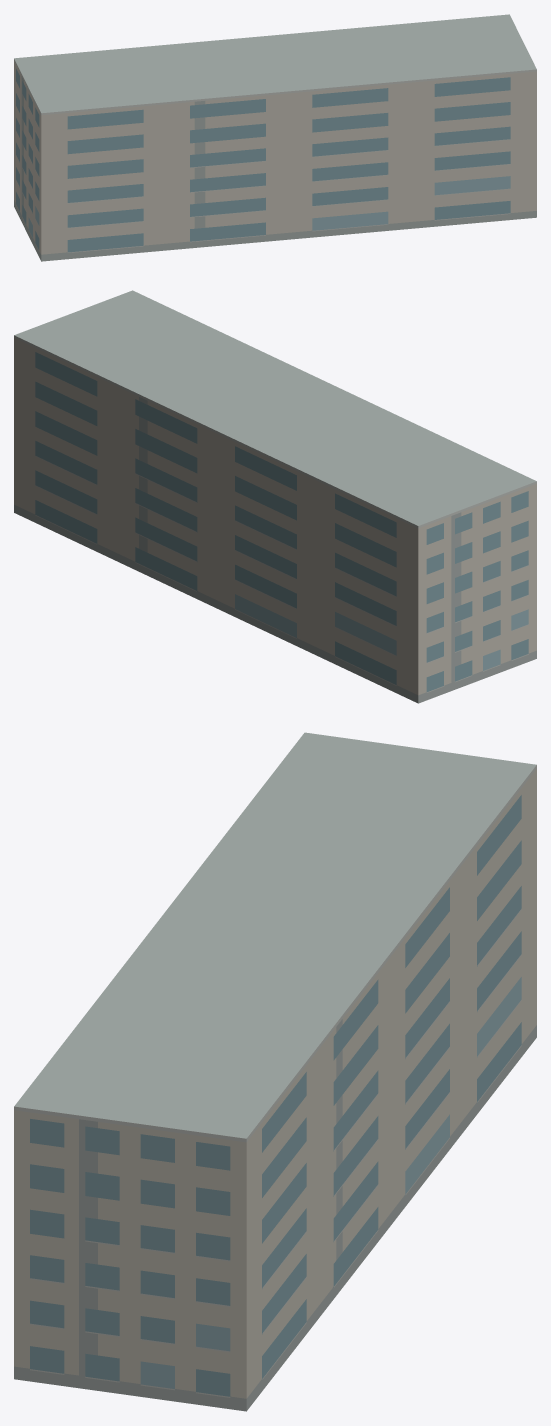
File: residential-56a24285-af7d-474a-a9a7-0657eb1d37d6.glb
3 views of the same model, one above another, from view 1: azimuth 30°, elevation 25°; view 2: azimuth 150°, elevation 25°; view 3: azimuth 270°, elevation 25° (orthographic). The views are drawn at different scales.
Parts seen in each view (by area): view 1: residential-56a24285-af7d-474a-a9a7-0657eb1d37d6.tmp; view 2: residential-56a24285-af7d-474a-a9a7-0657eb1d37d6.tmp; view 3: residential-56a24285-af7d-474a-a9a7-0657eb1d37d6.tmp.
Part boxes in pixels (box(x1,y1,x2,y2)): residential-56a24285-af7d-474a-a9a7-0657eb1d37d6.tmp: box(14, 14, 536, 261); residential-56a24285-af7d-474a-a9a7-0657eb1d37d6.tmp: box(14, 290, 536, 703); residential-56a24285-af7d-474a-a9a7-0657eb1d37d6.tmp: box(14, 732, 536, 1411).
Bounding box in the file's own units: 57.51 × 18 × 31.28.
